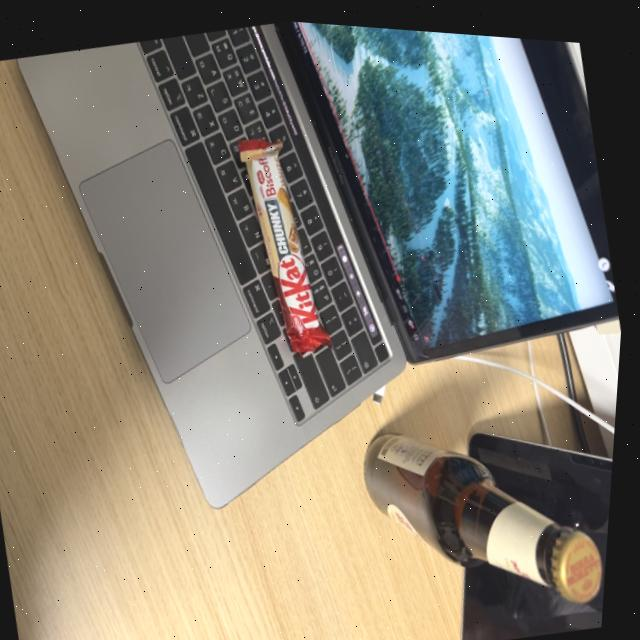beer: (349, 381, 621, 639)
chocolate: (223, 118, 353, 362)
